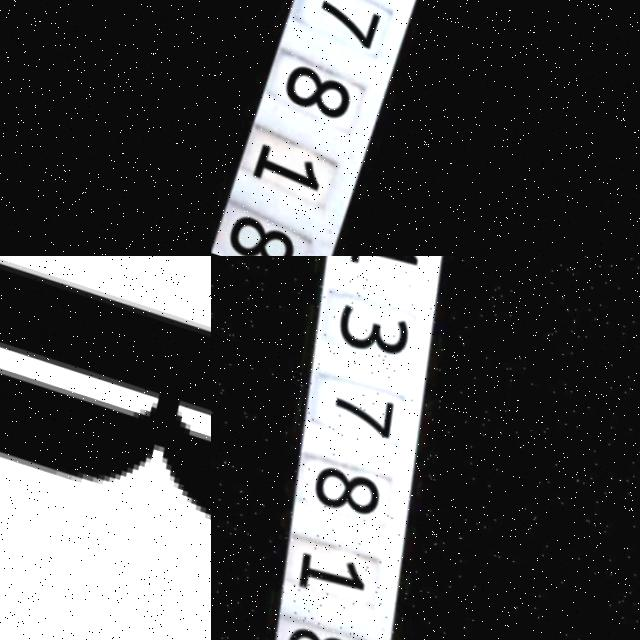1: (269, 520, 381, 616), (230, 124, 330, 205), (323, 256, 446, 291)
3: (309, 271, 433, 377)
7: (303, 359, 414, 453), (294, 0, 393, 52)
8: (280, 434, 403, 536), (258, 45, 366, 130), (211, 196, 304, 256), (255, 596, 367, 640)
R: (0, 256, 211, 626)
